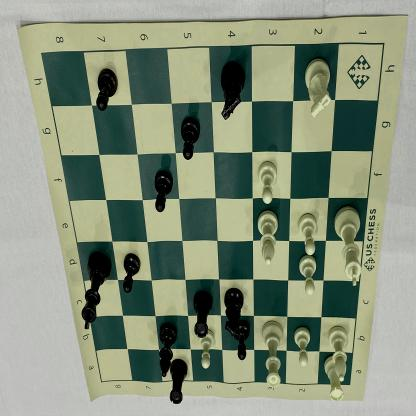black-bishop: (157, 321, 180, 380)
black-king: (79, 250, 113, 334)
black-knight: (216, 57, 247, 126), (221, 285, 245, 340)
black-pawn: (178, 113, 204, 165), (95, 66, 120, 115), (153, 167, 174, 215), (230, 318, 252, 362), (120, 252, 142, 296)
black-rook: (188, 289, 215, 340), (166, 356, 190, 405)
white-bishop: (256, 208, 281, 268), (327, 324, 351, 383)
white-king: (332, 203, 367, 289)
white-knight: (300, 54, 334, 122)
white-pawn: (255, 158, 280, 208), (297, 211, 322, 258), (291, 323, 314, 370), (195, 327, 217, 372), (298, 254, 320, 299)
white-queen: (260, 316, 288, 392)
white-rook: (320, 354, 348, 409)
